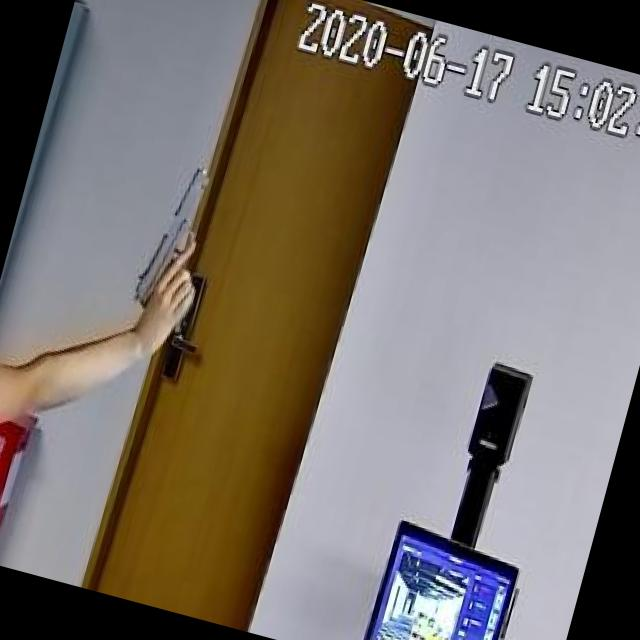Guns: (106, 140, 242, 349)
